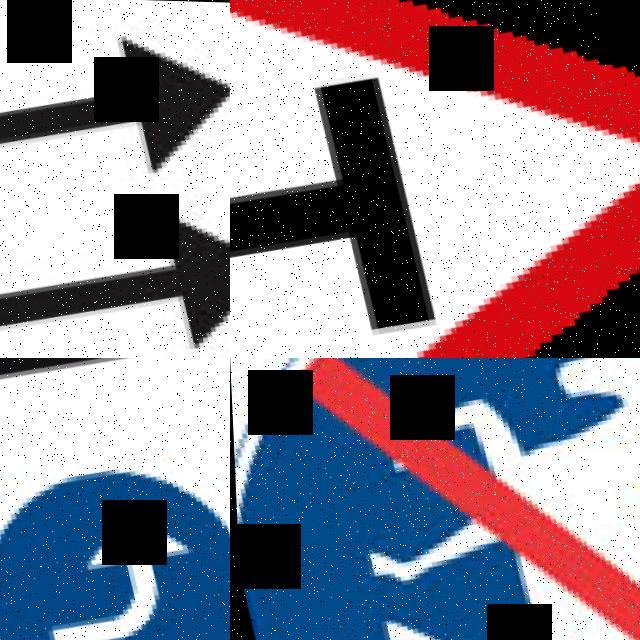112: (230, 358, 640, 640)
169: (0, 0, 230, 358)
95: (0, 358, 230, 640)
T-junction: (230, 0, 640, 358)
